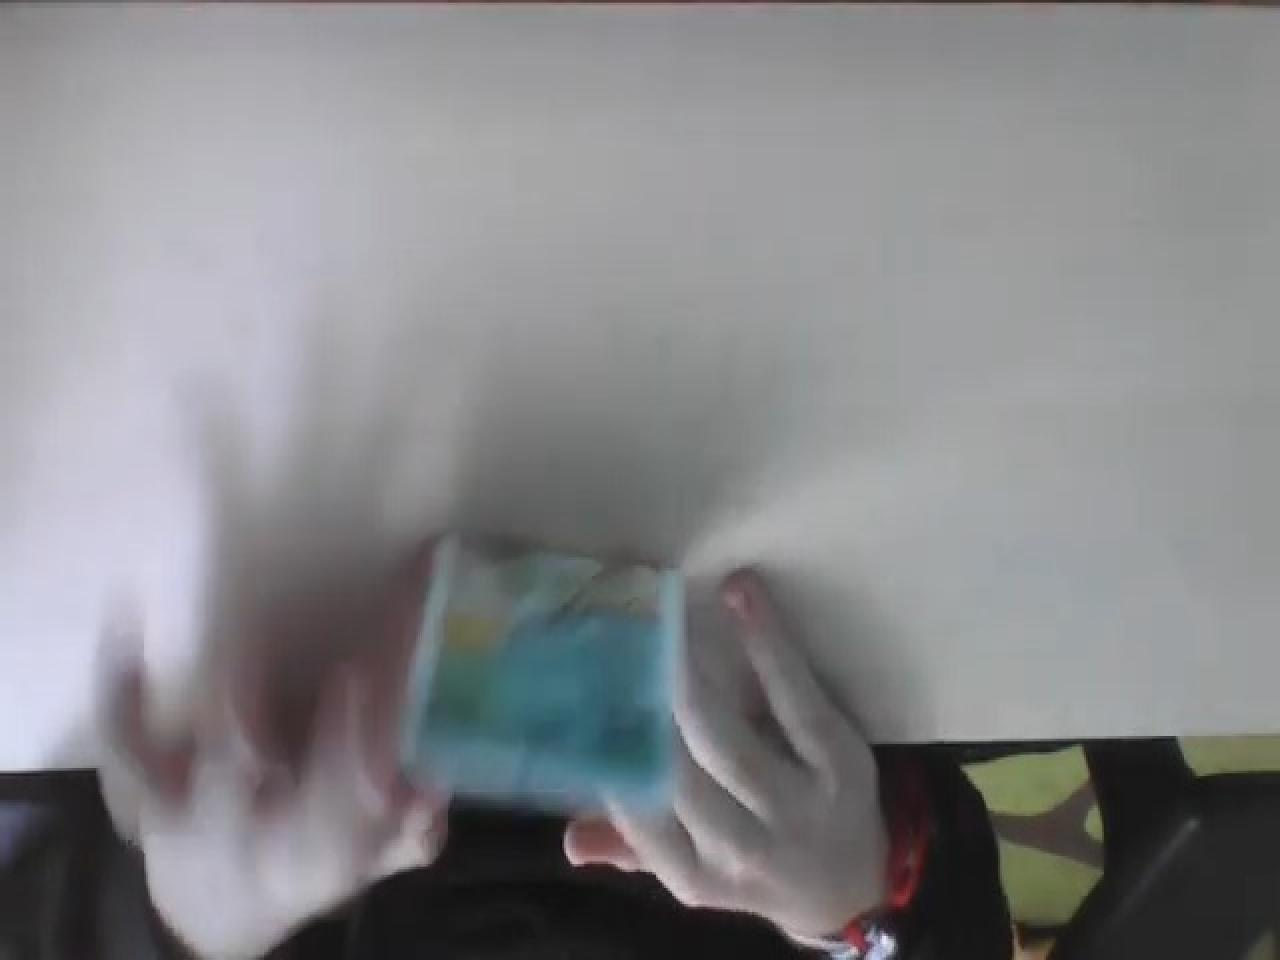100leva: (394, 533, 686, 822)
